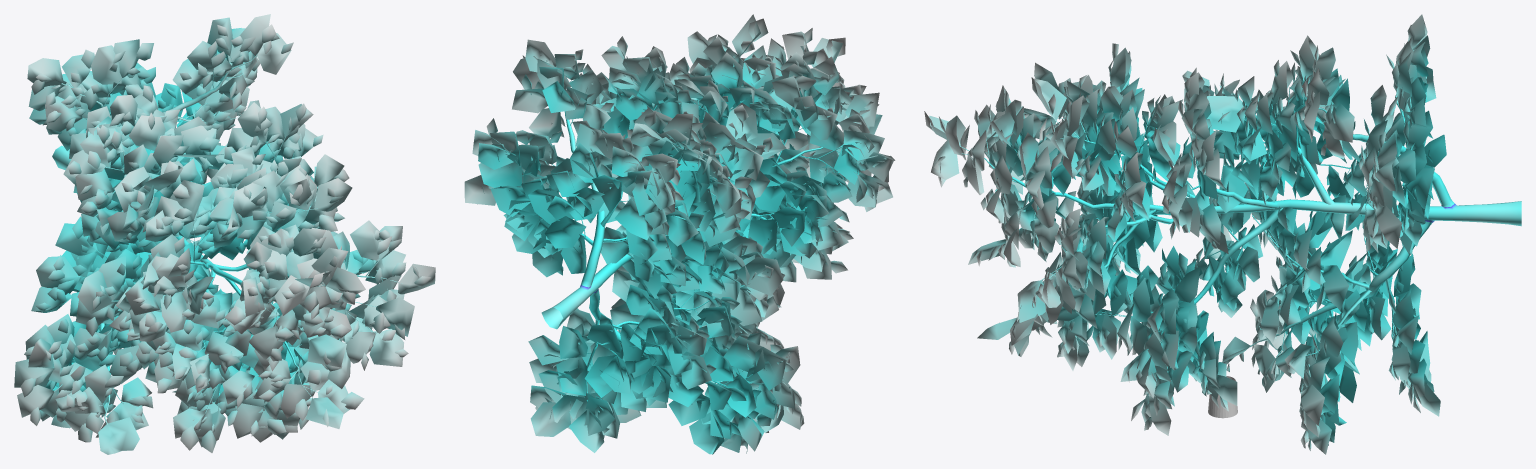
Rendered from KIT_MapleLarge2.fbx.
3 renders of one model, left to right at view 1: azimuth 30°, elevation 25°; view 2: azimuth 150°, elevation 25°; view 3: azimuth 270°, elevation 25°, orthographic. The views are drawn at different scales.
Parts seen in each view (by area): view 1: Upper_LOD0; view 2: Upper_LOD0; view 3: Upper_LOD0.
Part boxes in pixels (bbox=[...]): Upper_LOD0: bbox=[14, 14, 435, 454]; Upper_LOD0: bbox=[464, 14, 895, 454]; Upper_LOD0: bbox=[924, 14, 1521, 454].
Size of what is drawn, in the model's own units: 1273 by 1448 by 1974.
